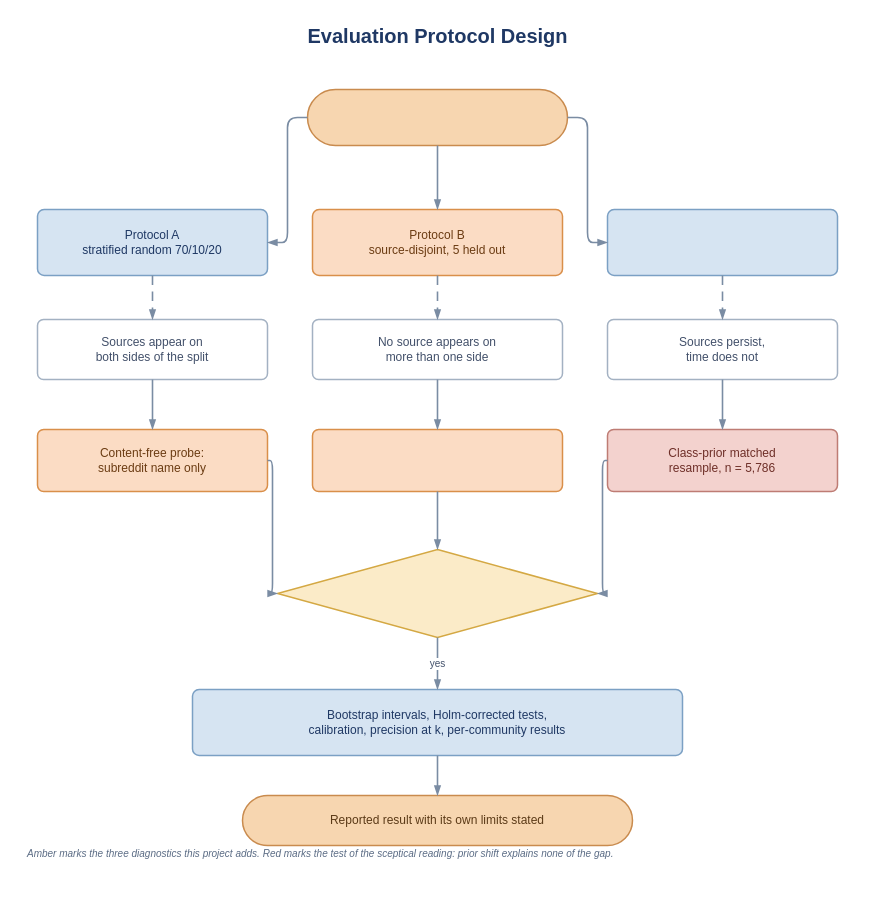
This 874x902 diagram has some shape labels left out. The shapes that lost their labels are listed below. From the top down, each one's box as (x1, y1, x2, y2) in pixels, then its label:
(306, 88, 568, 146): Corpus: 21,798 posts, 17 source communities
(606, 208, 838, 276): Protocol C temporal, earliest 70%
(311, 428, 563, 492): Leave-one-community-out rotation, 15 folds
(276, 548, 598, 638): Does the gap survive the alternative explanation?
